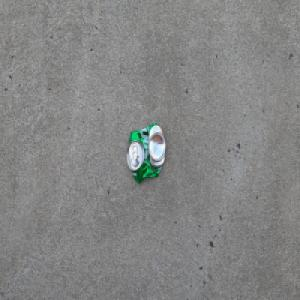SodaCan: (125, 121, 166, 185)
